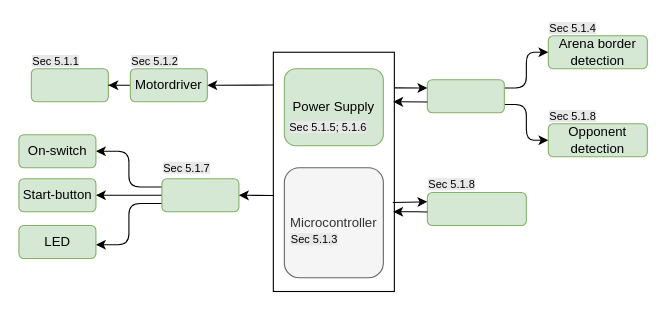
Some shapes in this 668 by 310 pixel diagram are drawn without their labels. The shapes that lost their labels are listed below. From the top down, each one's centre as x and y in pixels, then its label:
(69,85): Motors
(465,96): Sensors
(200,195): Interface
(476,208): Motion control
